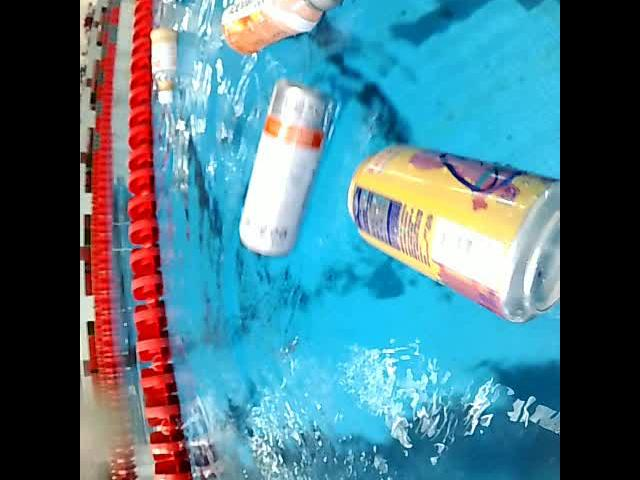Bottle: (208, 0, 361, 62), (146, 20, 184, 125)
Can: (343, 133, 559, 345), (234, 66, 340, 288), (154, 0, 193, 21)
